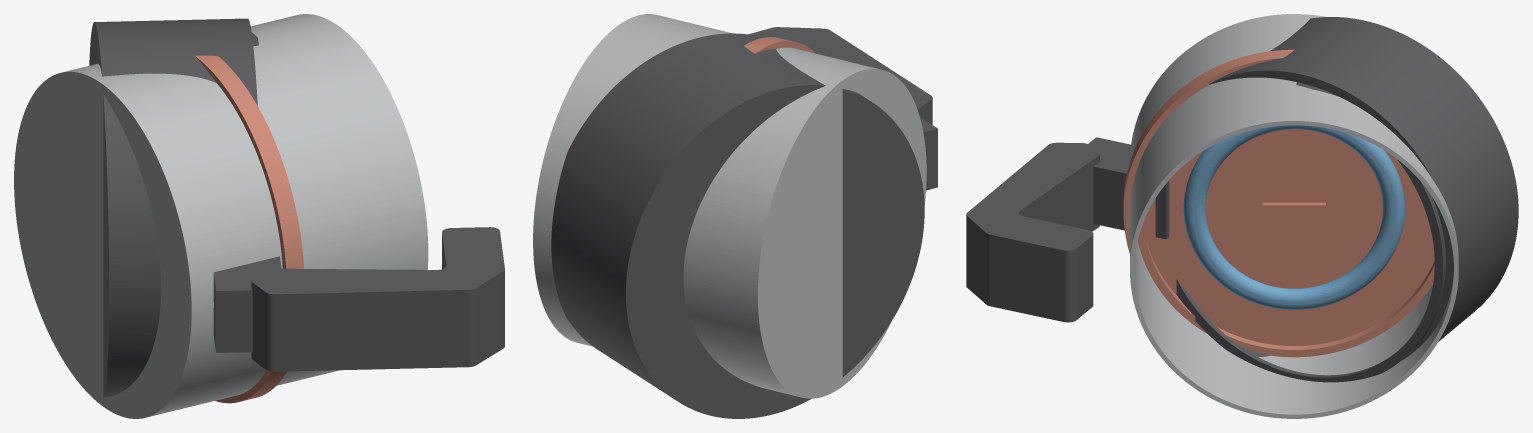
The model's file is cad_milk_frother.glb.
3 views of the same model, side by side, from view 1: azimuth 30°, elevation 25°; view 2: azimuth 150°, elevation 25°; view 3: azimuth 270°, elevation 25° (orthographic). The views are drawn at different scales.
Parts seen in each view (by area): view 1: v1, v0, v2; view 2: v0, v1, v2; view 3: v0, v2, v1, v3.
Boxes of the visible parts, x1,y1,x2,y2 form: v1: (14,14,428,418); v0: (89,18,504,397); v2: (195,55,303,403); v0: (551,27,937,418); v1: (533,14,926,398); v2: (744,37,815,53); v0: (966,17,1518,382); v2: (1123,49,1434,357); v1: (1130,14,1458,418); v3: (1183,125,1404,309).
Size of the model in its own units: 0.1061 by 0.11 by 0.1746.
